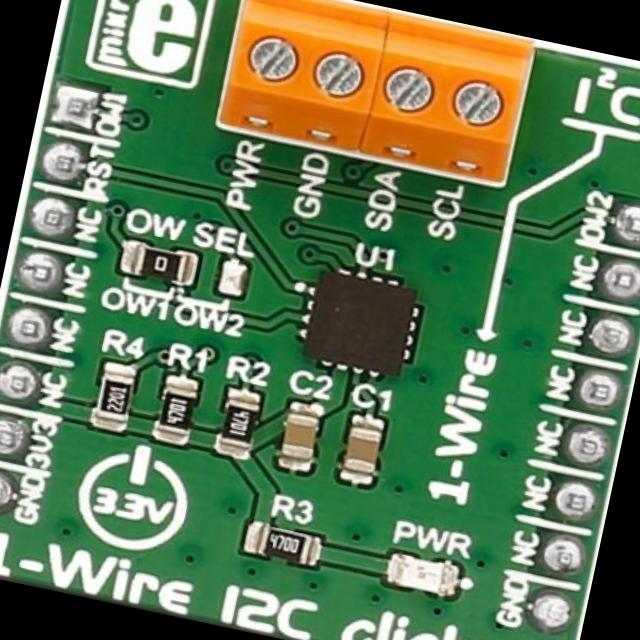IC: (293, 264, 430, 386)
LED: (382, 552, 464, 598)
capacitor: (274, 394, 326, 474), (338, 411, 390, 489)
connector: (360, 9, 536, 188), (216, 0, 389, 147)
resistor: (114, 236, 200, 289), (244, 518, 326, 573), (91, 354, 143, 434), (213, 386, 262, 460), (156, 373, 204, 448)
